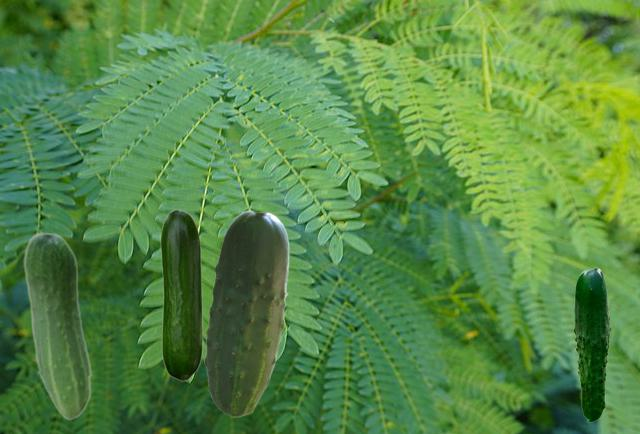cucumber: (204, 210, 288, 416), (23, 231, 91, 419), (160, 209, 202, 380), (573, 267, 610, 421)
